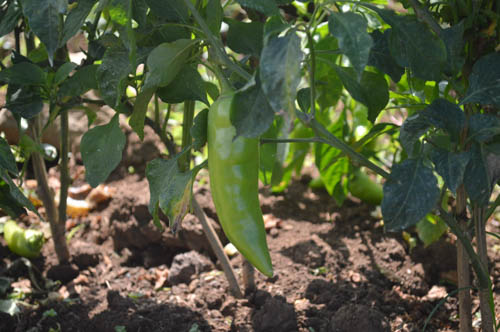ChiliPepper: (205, 94, 275, 274)
